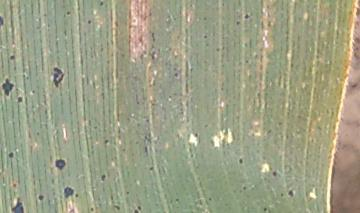tarspot: (51, 64, 66, 88), (10, 195, 25, 213), (1, 78, 15, 97), (52, 158, 68, 172), (62, 186, 76, 201), (144, 125, 152, 144), (287, 188, 295, 199), (36, 193, 45, 202), (150, 31, 157, 42), (15, 95, 23, 104), (112, 203, 121, 211), (143, 145, 149, 157), (150, 50, 156, 62), (65, 208, 78, 213), (271, 169, 278, 178), (7, 150, 14, 159), (243, 12, 250, 21), (100, 173, 107, 182), (148, 165, 156, 172), (192, 131, 199, 139), (241, 185, 248, 193), (243, 58, 250, 66), (238, 156, 244, 165), (65, 9, 71, 18), (8, 54, 15, 61), (234, 19, 241, 26), (201, 15, 208, 22), (143, 117, 150, 124), (173, 71, 179, 79), (1, 15, 5, 26), (202, 33, 208, 40), (103, 138, 109, 145), (279, 191, 285, 198), (86, 18, 92, 25), (11, 182, 18, 188), (74, 192, 80, 199), (136, 205, 143, 211), (30, 88, 36, 95), (174, 197, 180, 204), (214, 46, 220, 53), (34, 130, 41, 136), (132, 208, 140, 213), (98, 1, 104, 7), (89, 206, 95, 212), (125, 190, 131, 196), (207, 196, 213, 202), (262, 206, 267, 213)
